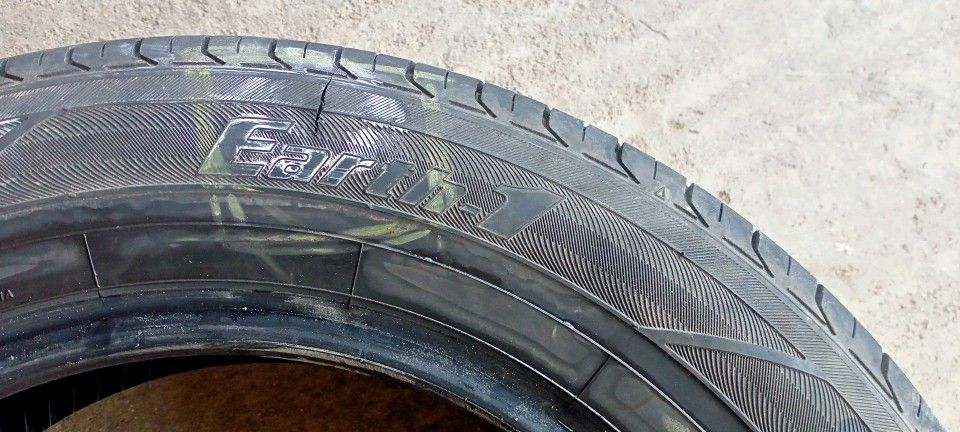cut: (311, 73, 340, 140)
